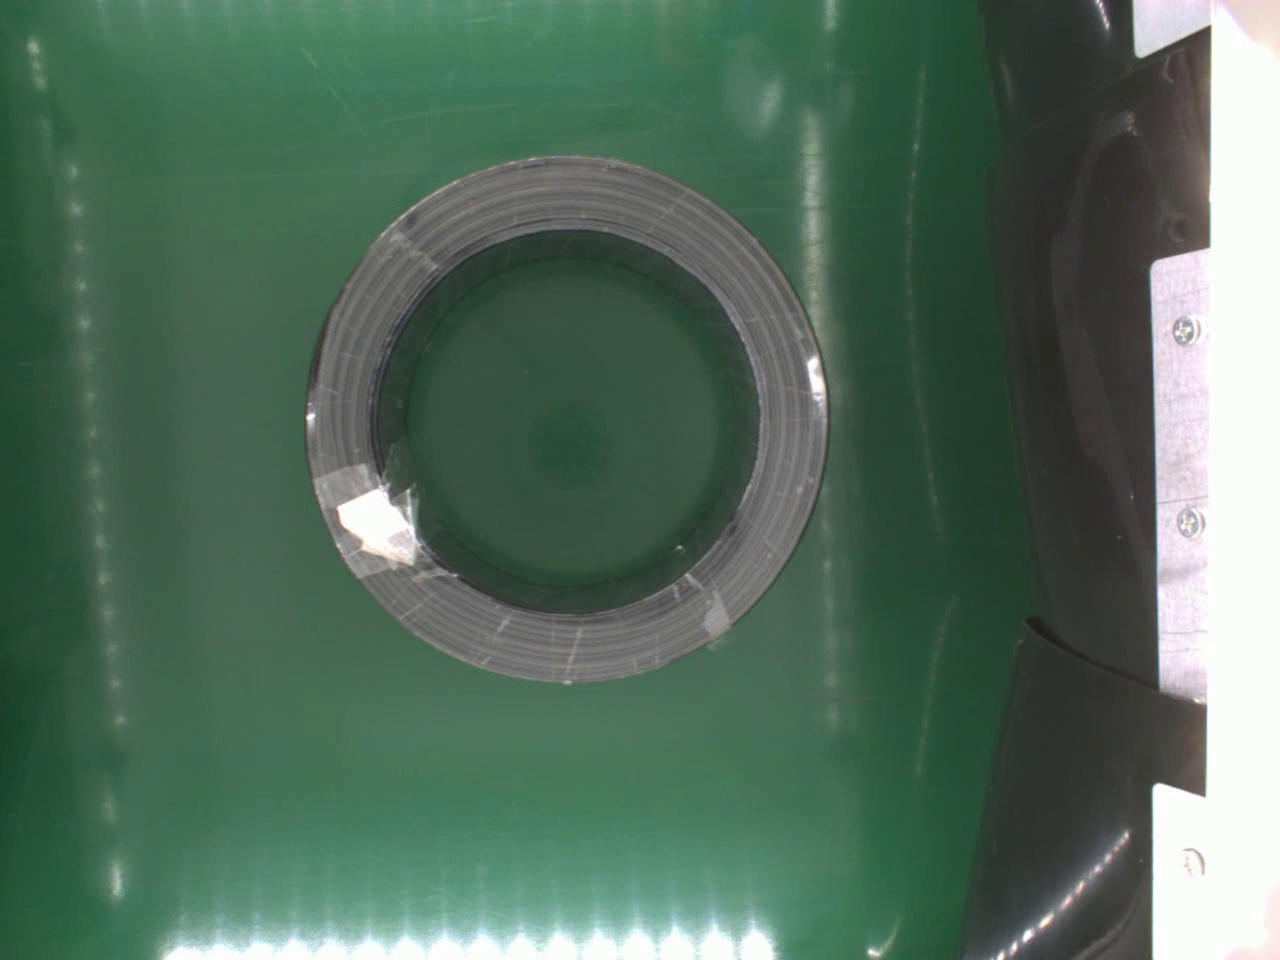black: (302, 149, 834, 692)
